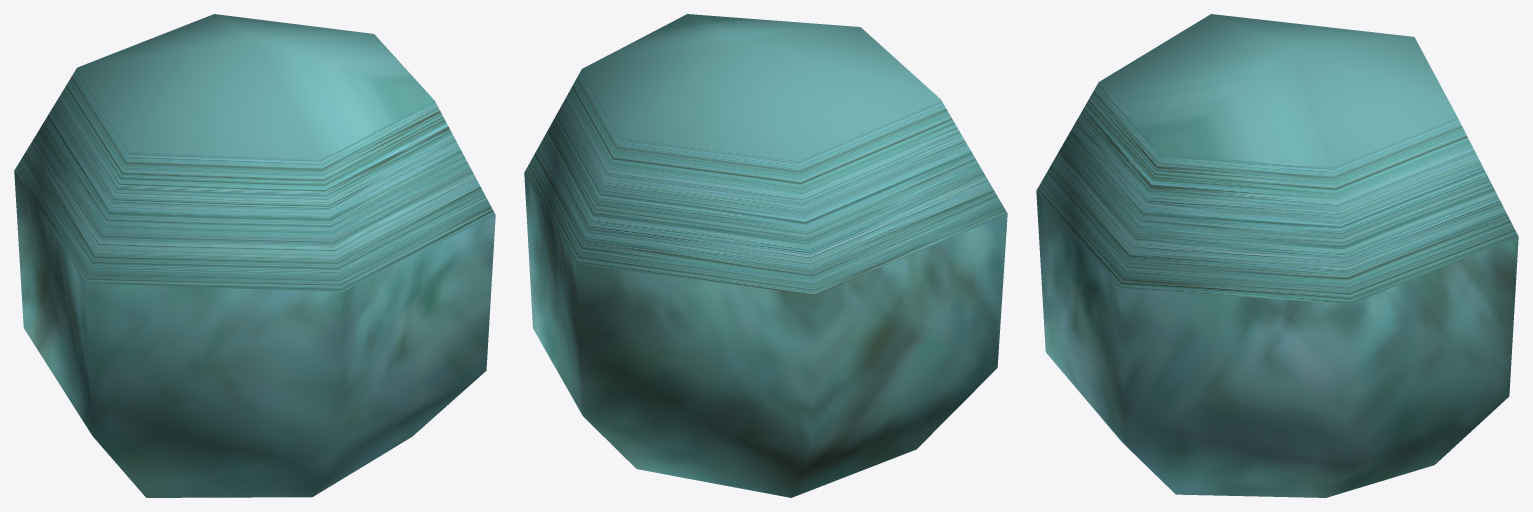
Rendered from EKH_GROTTO_PS_GR_ROCK1102928.fbx.
3 views of the same model, side by side, from view 1: azimuth 30°, elevation 25°; view 2: azimuth 150°, elevation 25°; view 3: azimuth 270°, elevation 25° (orthographic). The views are drawn at different scales.
Parts seen in each view (by area): view 1: EKH_GROTTO_PS_GR_ROCK1102928; view 2: EKH_GROTTO_PS_GR_ROCK1102928; view 3: EKH_GROTTO_PS_GR_ROCK1102928.
Boxes of the visible parts, x1,y1,x2,y2 form: EKH_GROTTO_PS_GR_ROCK1102928: [14, 14, 495, 497]; EKH_GROTTO_PS_GR_ROCK1102928: [524, 14, 1007, 497]; EKH_GROTTO_PS_GR_ROCK1102928: [1036, 14, 1518, 497].
Bounding box in the file's own units: 13271 × 12479 × 13203.
1 material, 1 textured.
